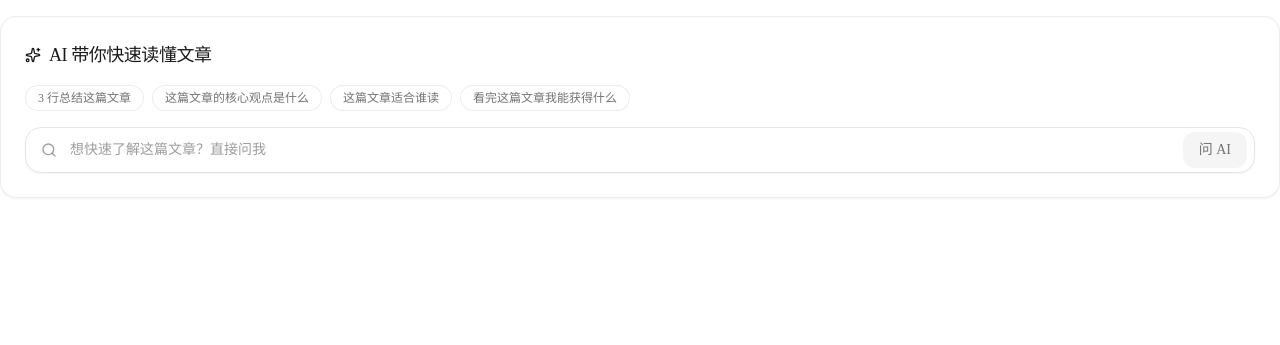
Scenario: PageAIAssistantProvider › 同一实例第二次请求会中断第一次流式请求，并忽略旧流写入
Type "第一次问题" into the field at (640, 150), box [25,127,1255,173]
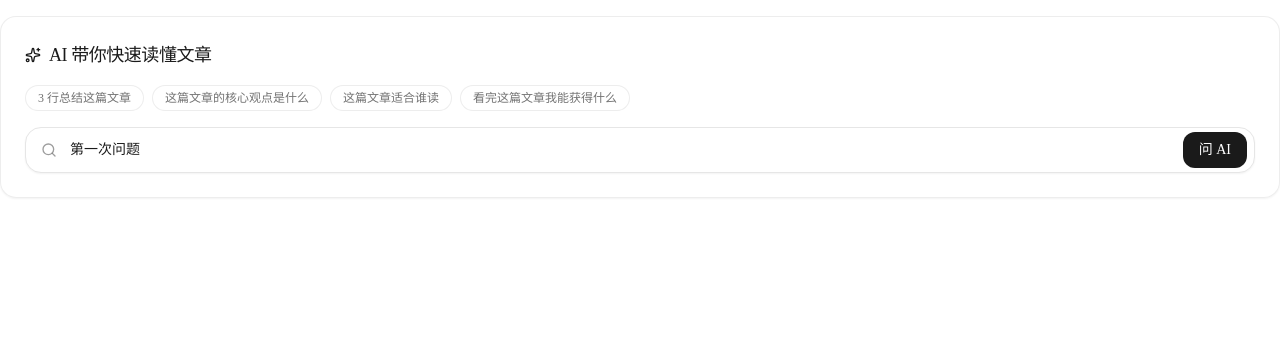
Click the button "问 AI" at (1215, 150), box [1183,132,1247,168]
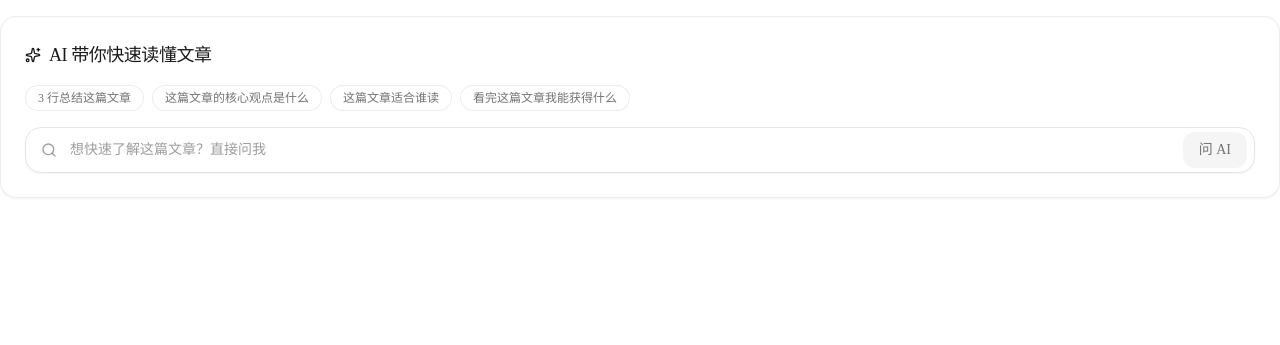
Type "第二次问题" into the field at (640, 150), box [25,127,1255,173]
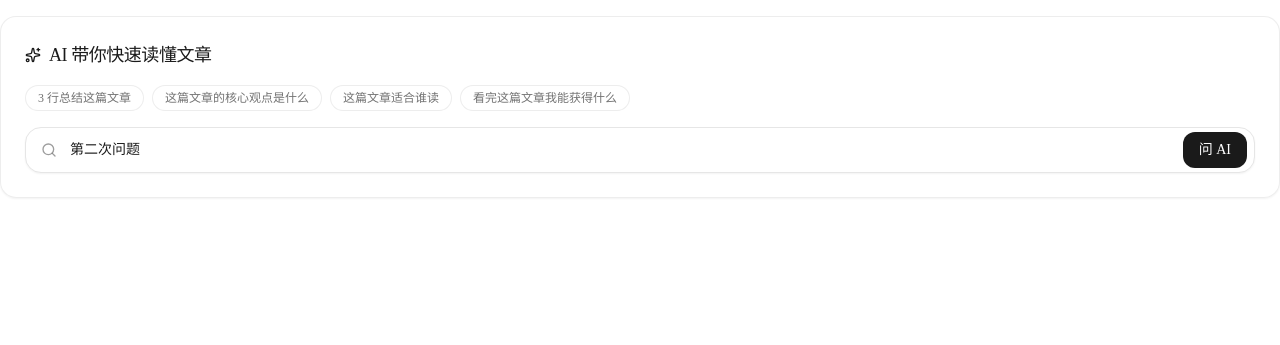
Click the button "问 AI" at (1215, 150), box [1183,132,1247,168]
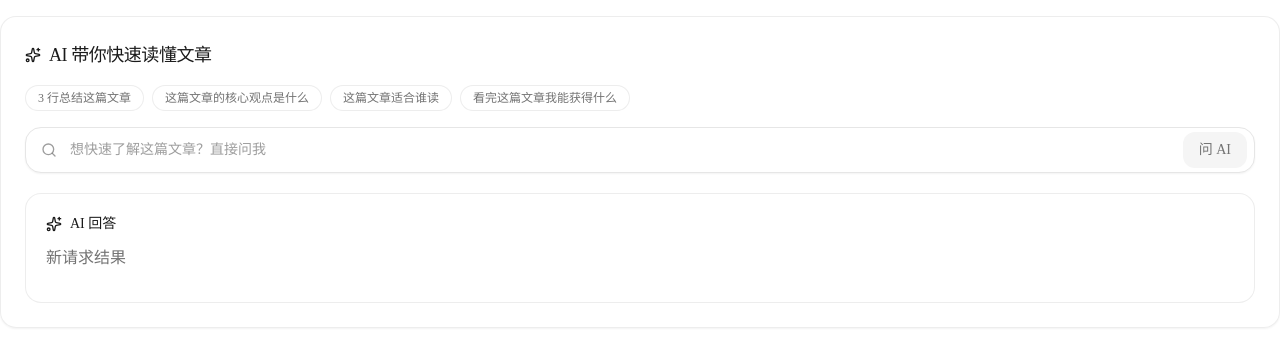
Expected: the text "新请求结果" is shown, [46,249,126,266]
